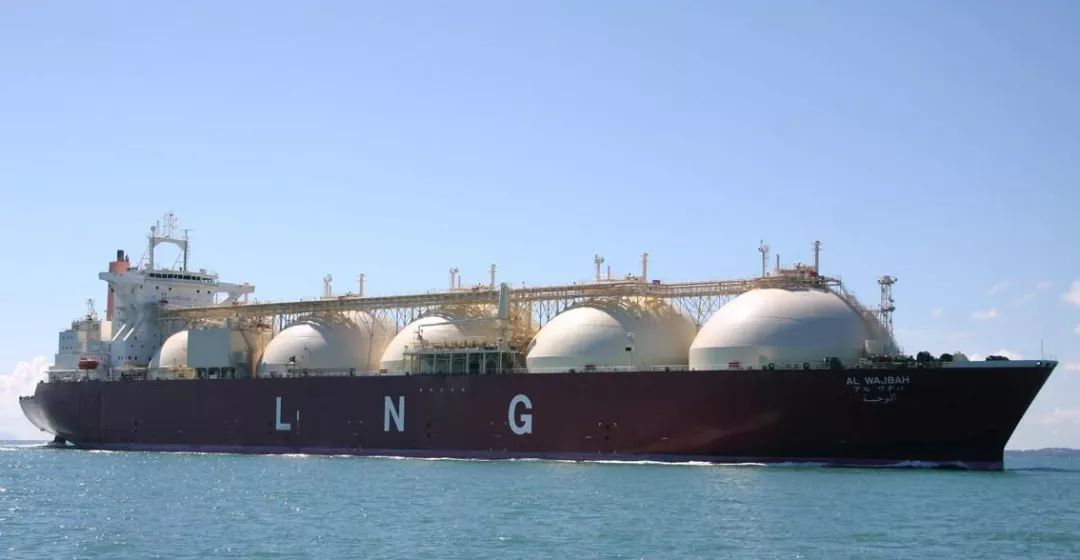Cargoship: (15, 195, 1075, 473)
